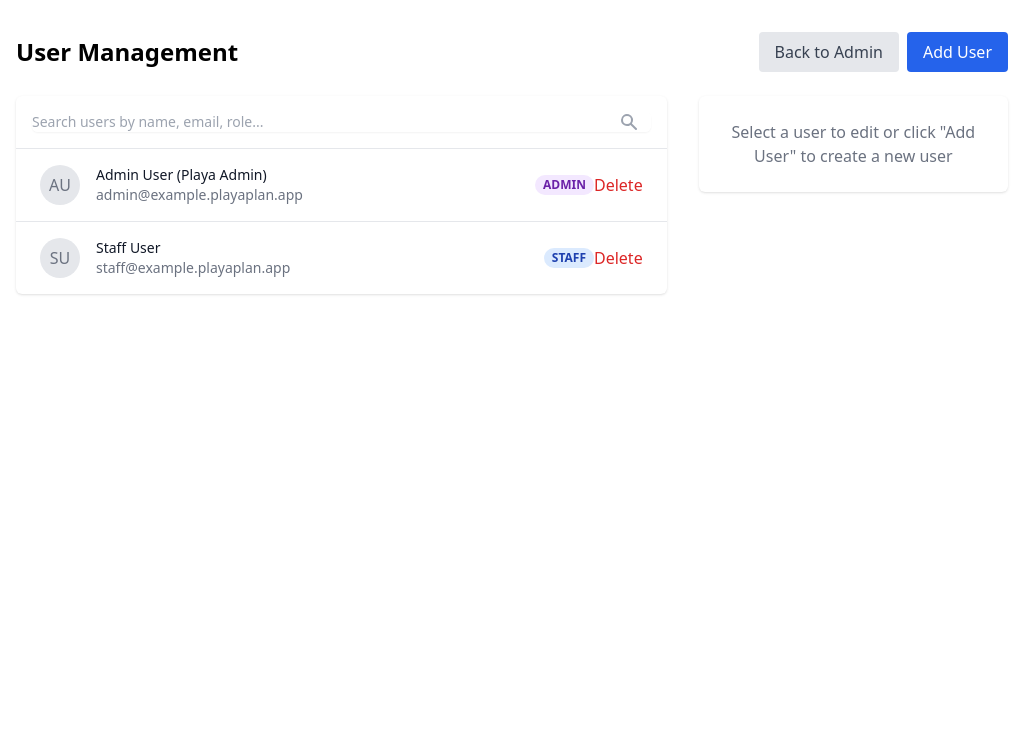
it: AdminUserPage › shows the create user form when add user is clicked
Click the button "Add User".
click(957, 52)  # box 907,32 -> 1008,72
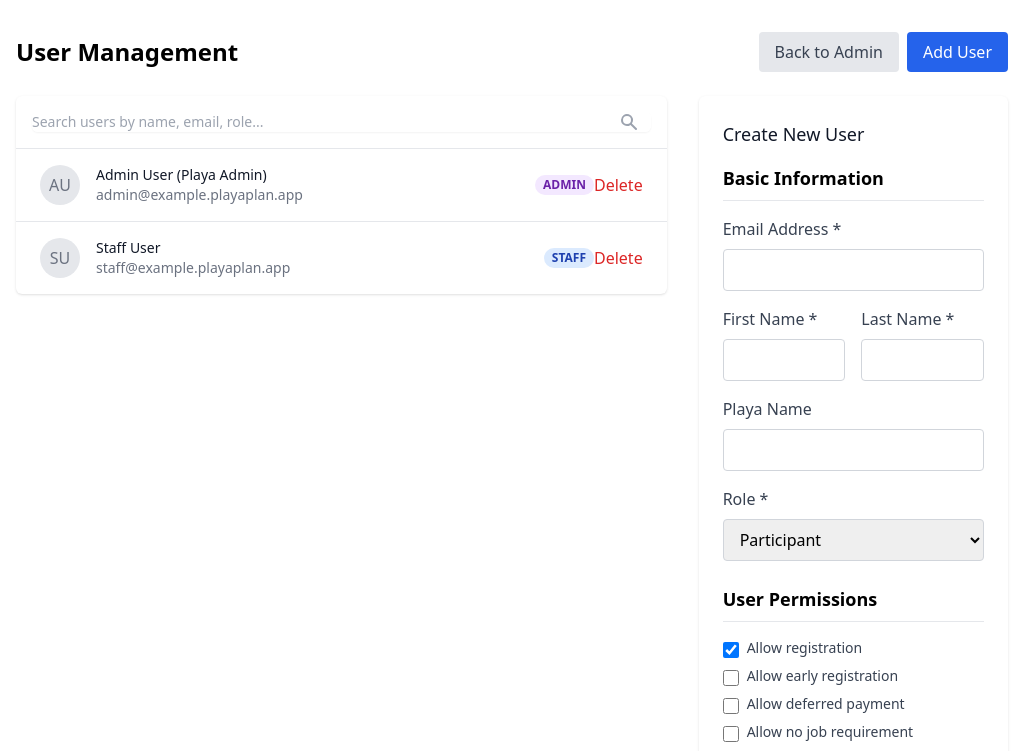
Result: the heading "Create New User" is shown at 723,122 -> 864,146
Result: the field labelled "Email Address *" is shown at 723,249 -> 984,291
Result: the field labelled "First Name *" is shown at 723,339 -> 845,381
